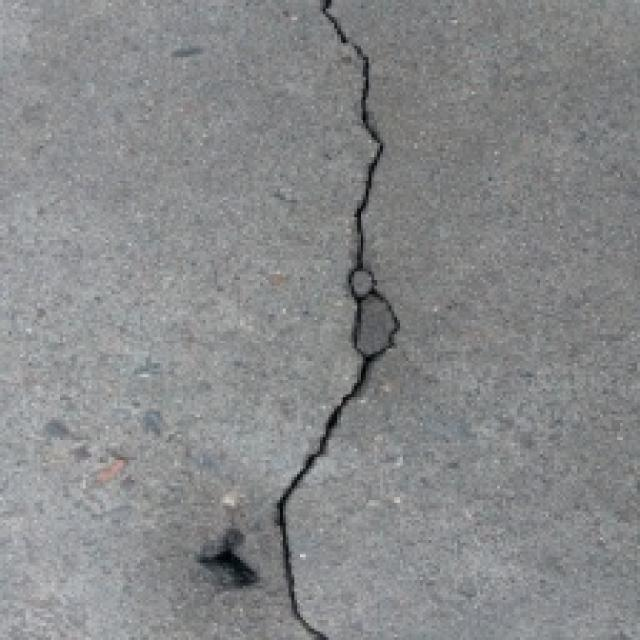crack: (242, 0, 420, 640)
